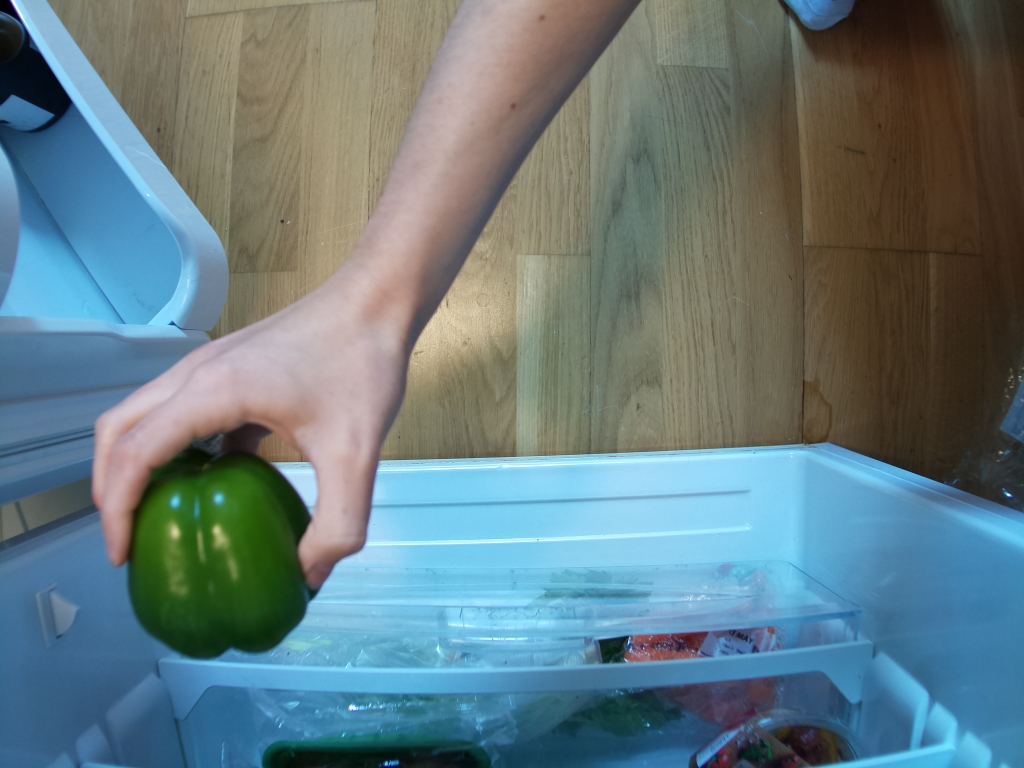pepper: (129, 449, 321, 660)
